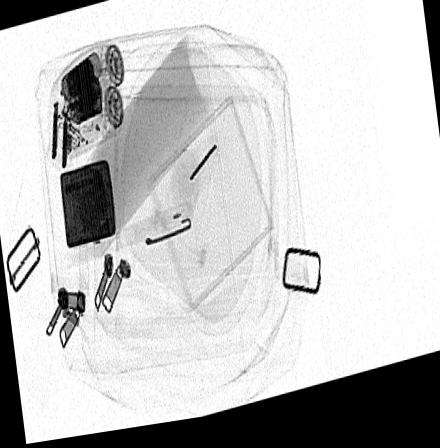Lighter: (59, 160, 116, 250)
